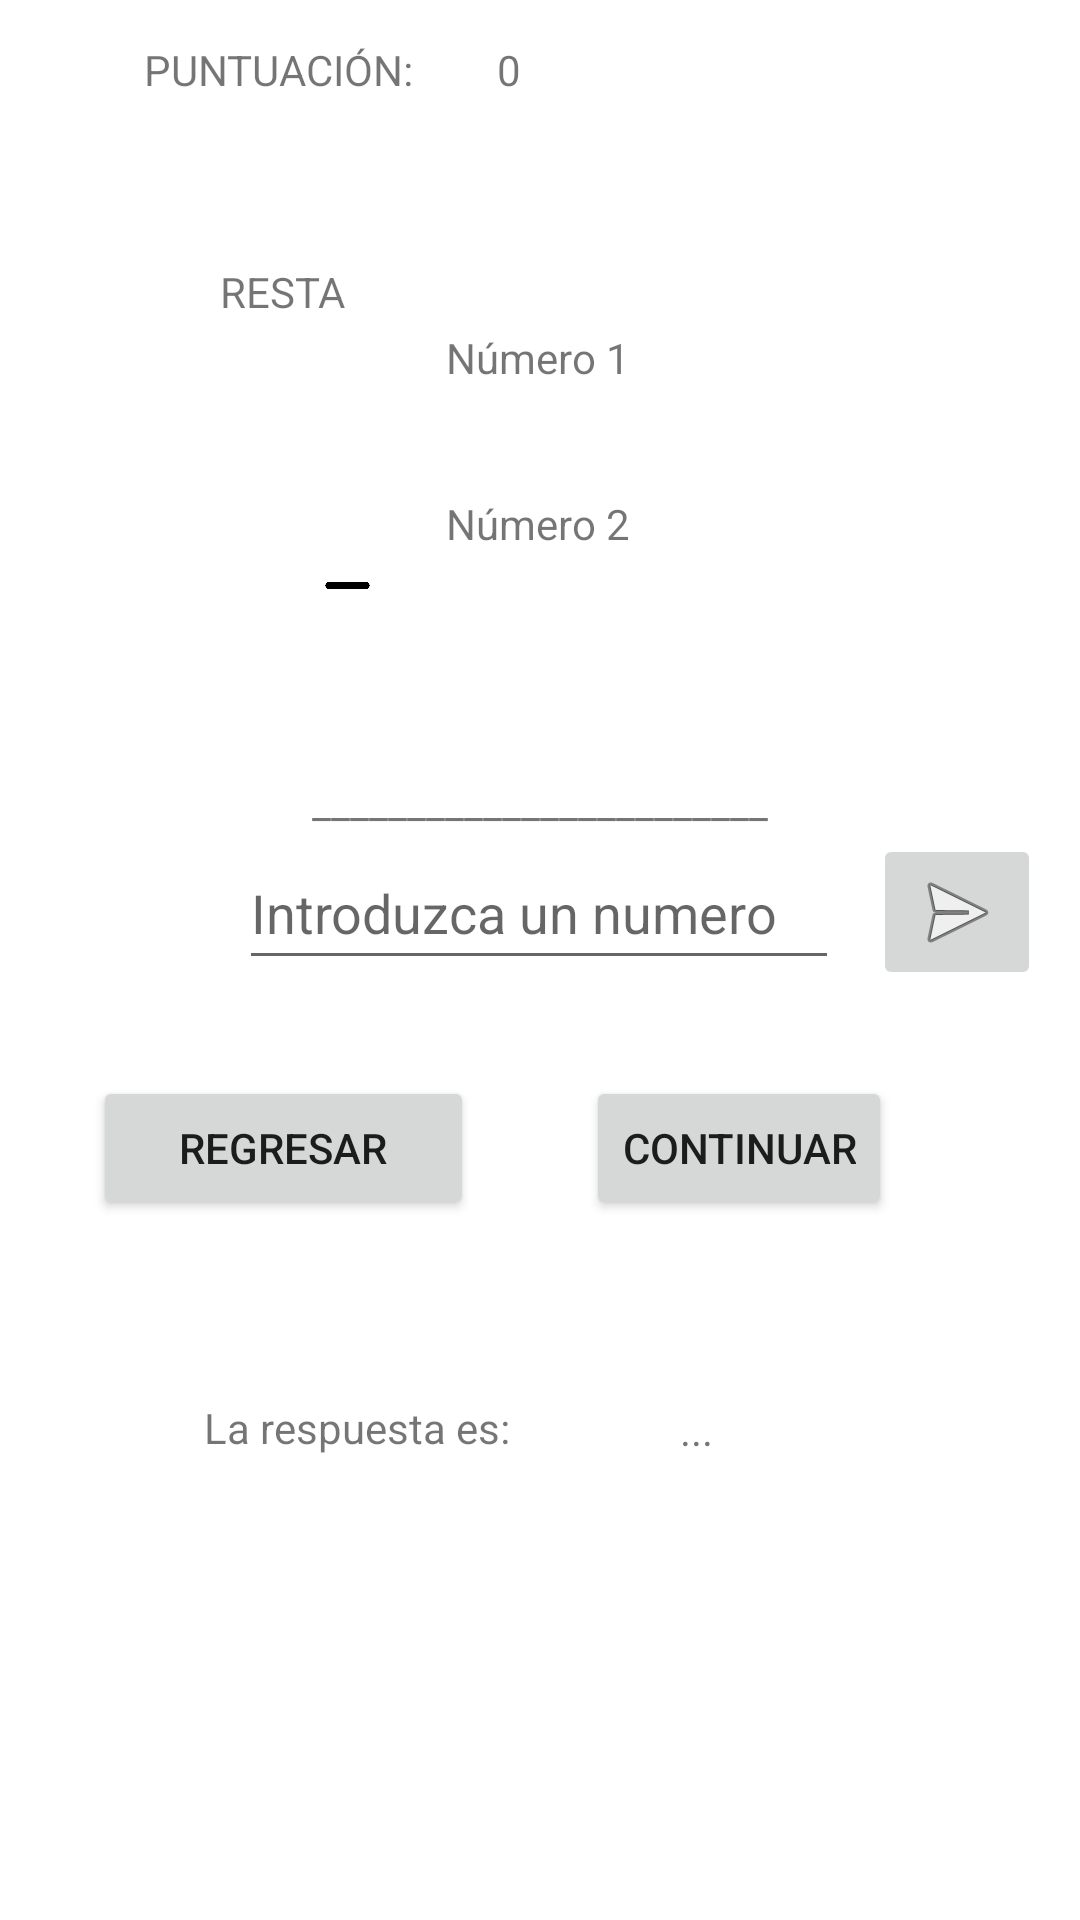

Screen size 1080*1920. Icon name, then its box in pixels as (x1, y1, x2, y2):
send: (885, 852, 1029, 972)
